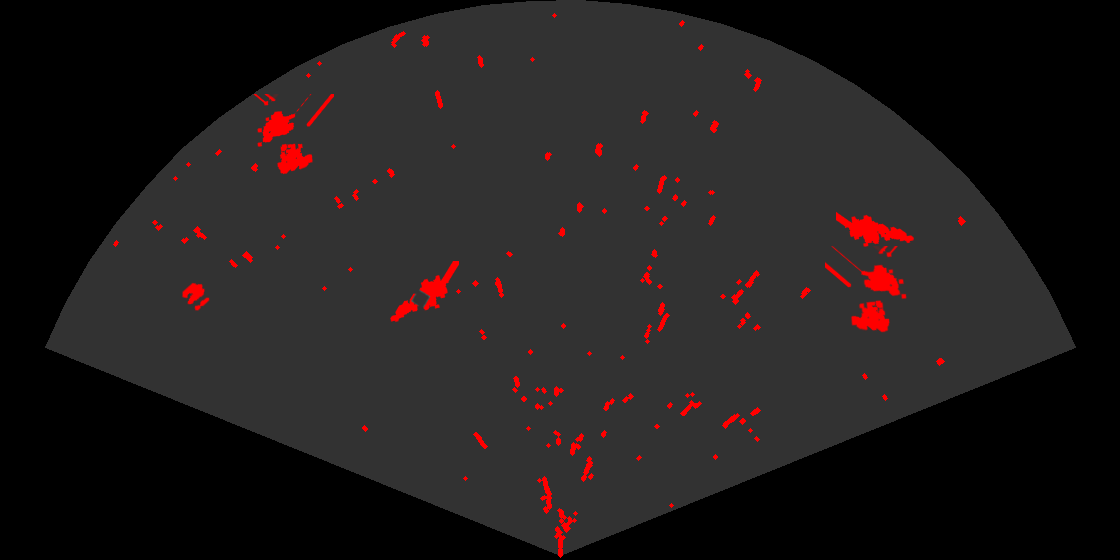ball: (180, 281, 211, 312)
cage: (825, 246, 908, 334), (252, 94, 334, 176)
frogman: (389, 261, 459, 324), (836, 210, 916, 248)
